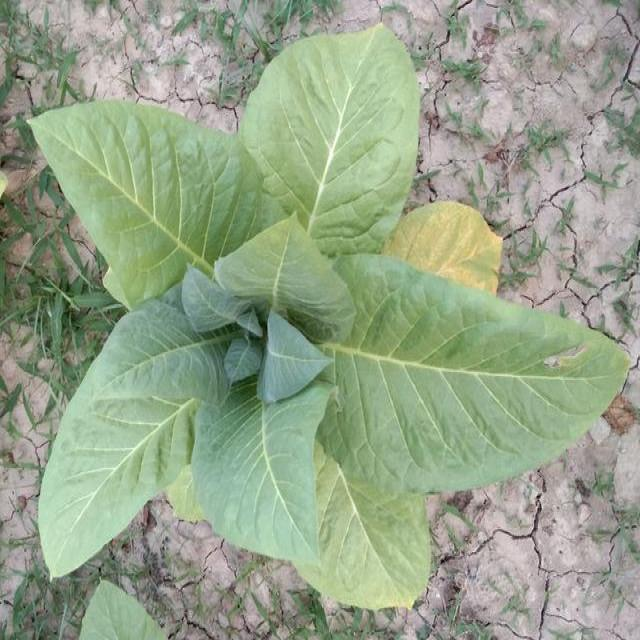crop: (34, 27, 624, 599)
